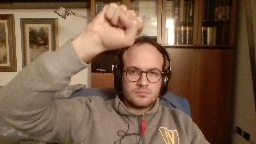Pugno: (80, 0, 144, 50)
